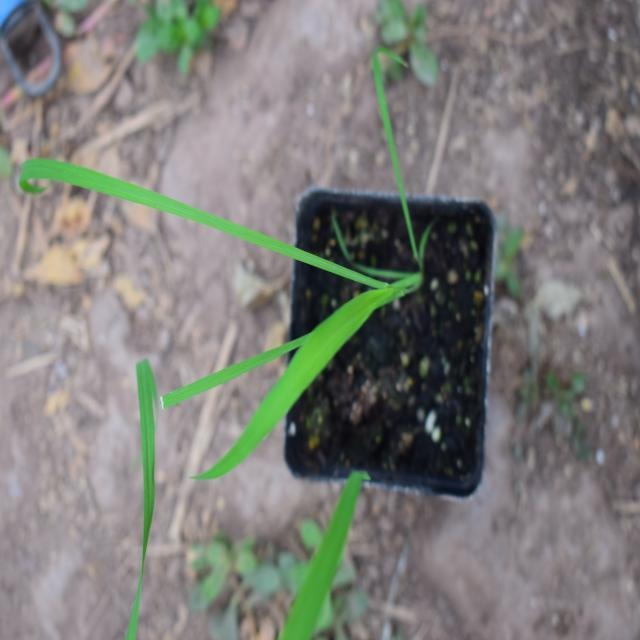barnyard_grass: (10, 128, 407, 449)
